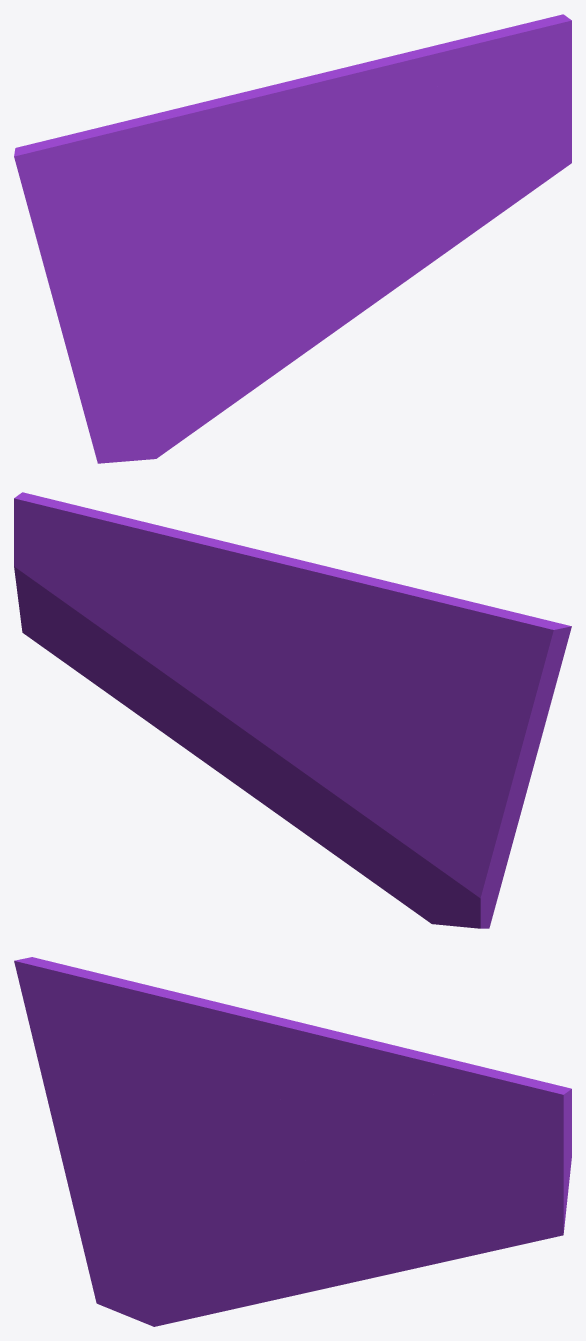
The model's file is Glass_14_0_chunks.fbx.
3 views of the same model, one above another, from view 1: azimuth 30°, elevation 25°; view 2: azimuth 150°, elevation 25°; view 3: azimuth 330°, elevation 25° (orthographic).
Visible parts, largest first — view 1: Glass_14_0_0, Glass_14_0_1, Glass_14_0_8, Glass_14_0_7, Glass_14_0_2, Glass_14_0_5, Glass_14_0_6, Glass_14_0_3; view 2: Glass_14_0_0, Glass_14_0_8, Glass_14_0_1, Glass_14_0_2, Glass_14_0_5, Glass_14_0_7, Glass_14_0_6, Glass_14_0_9, Glass_14_0_3, Glass_14_0_4; view 3: Glass_14_0_0, Glass_14_0_1, Glass_14_0_8, Glass_14_0_7, Glass_14_0_2, Glass_14_0_5, Glass_14_0_6, Glass_14_0_3.
Boxes of the visible parts, left/top/right/bottom form: Glass_14_0_0: left=14, top=119, right=263, bottom=395; Glass_14_0_1: left=79, top=240, right=328, bottom=463; Glass_14_0_8: left=414, top=14, right=571, bottom=200; Glass_14_0_7: left=299, top=160, right=518, bottom=336; Glass_14_0_2: left=289, top=40, right=481, bottom=190; Glass_14_0_5: left=120, top=80, right=301, bottom=205; Glass_14_0_6: left=284, top=110, right=414, bottom=272; Glass_14_0_3: left=219, top=162, right=334, bottom=240; Glass_14_0_0: left=300, top=600, right=571, bottom=882; Glass_14_0_8: left=14, top=492, right=169, bottom=669; Glass_14_0_1: left=262, top=732, right=507, bottom=928; Glass_14_0_2: left=111, top=514, right=288, bottom=660; Glass_14_0_5: left=279, top=557, right=465, bottom=671; Glass_14_0_7: left=74, top=656, right=288, bottom=802; Glass_14_0_6: left=169, top=575, right=304, bottom=759; Glass_14_0_9: left=136, top=634, right=291, bottom=765; Glass_14_0_3: left=256, top=651, right=343, bottom=705; Glass_14_0_4: left=267, top=618, right=311, bottom=654; Glass_14_0_0: left=14, top=957, right=259, bottom=1228; Glass_14_0_1: left=78, top=1164, right=323, bottom=1326; Glass_14_0_8: left=408, top=1063, right=571, bottom=1246; Glass_14_0_7: left=295, top=1157, right=511, bottom=1288; Glass_14_0_2: left=285, top=1024, right=474, bottom=1147; Glass_14_0_5: left=119, top=985, right=305, bottom=1107; Glass_14_0_6: left=280, top=1107, right=408, bottom=1211; Glass_14_0_3: left=216, top=1098, right=329, bottom=1173.
Bounding box in the file's own units: 1026 × 592 × 27.2.
